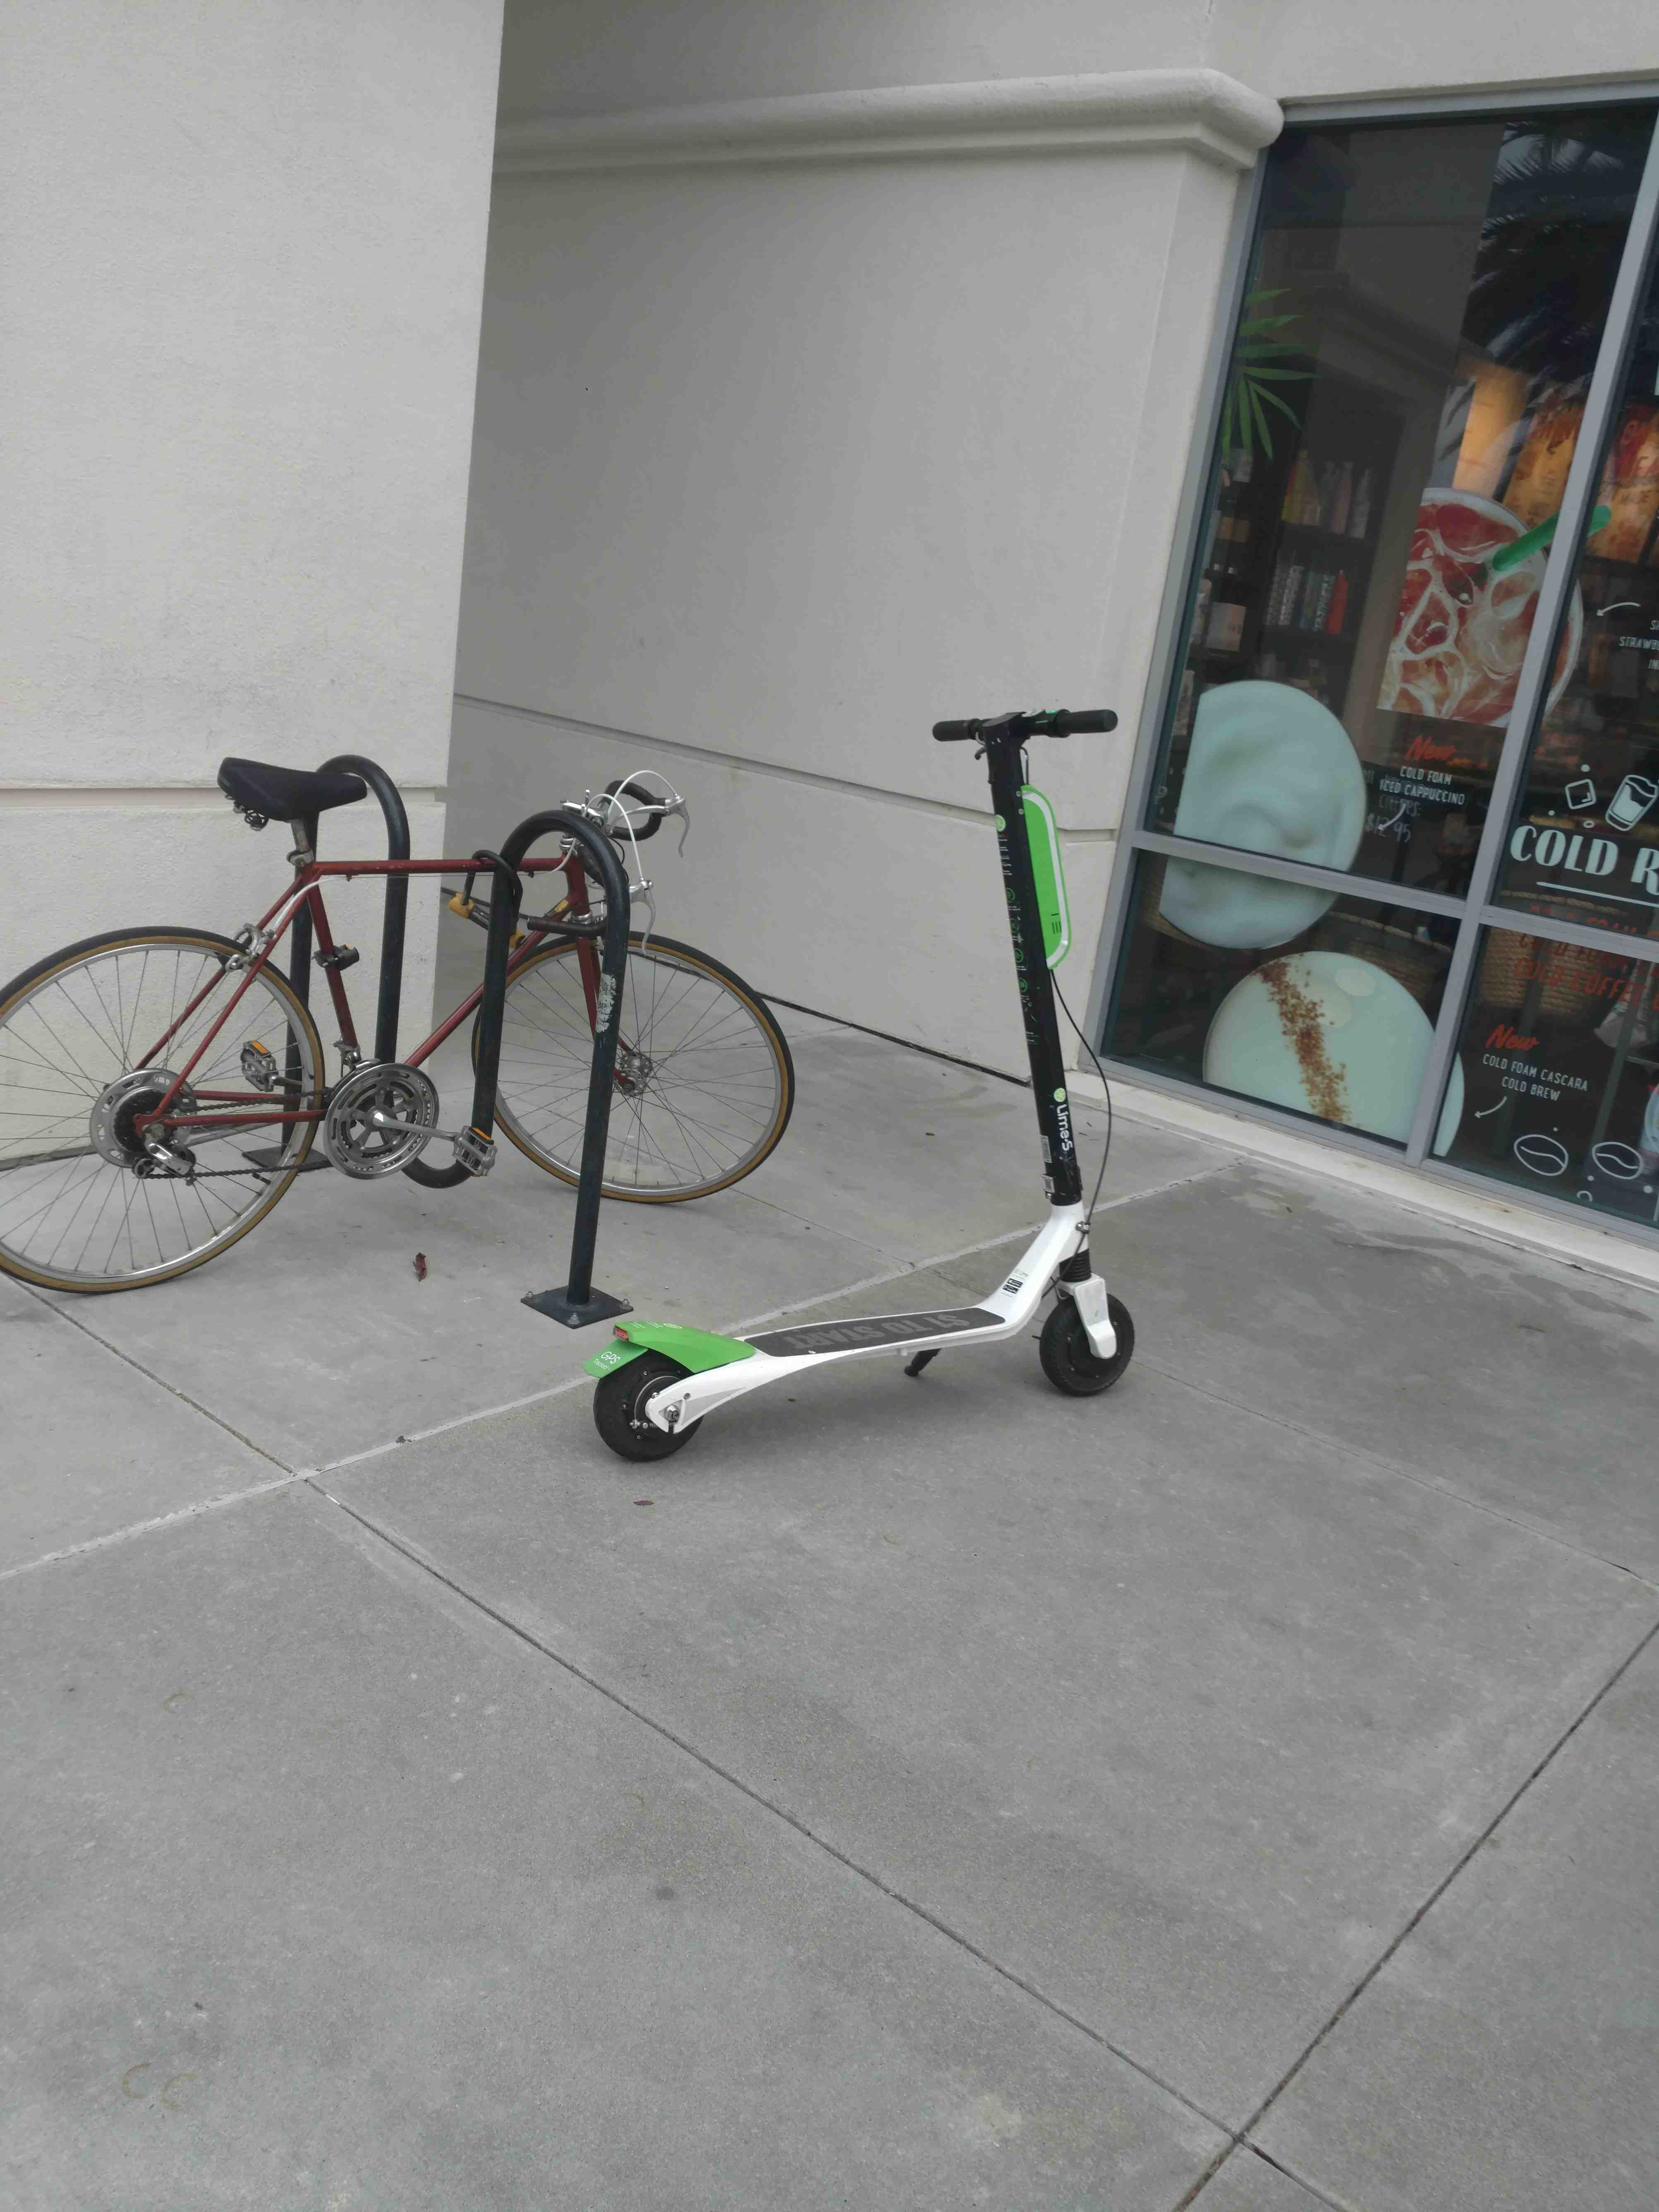scooter: (572, 704, 1155, 1501)
